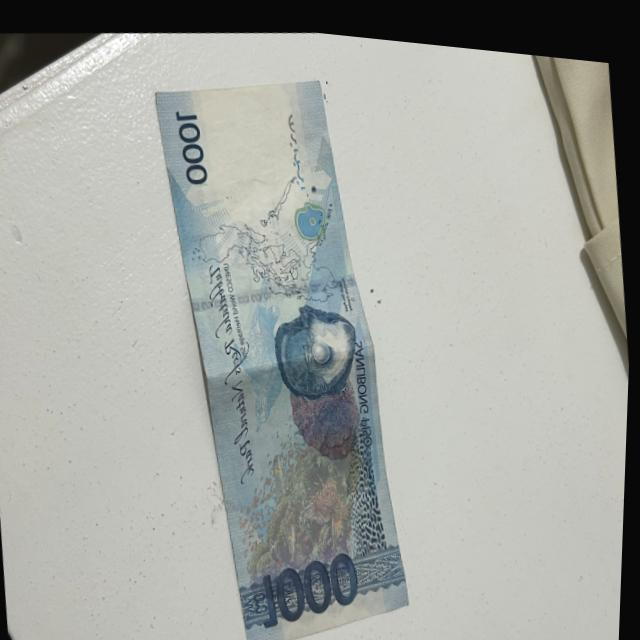1000_pearl: (277, 297, 366, 388)
1000_pearl_watermark: (291, 193, 331, 235)
